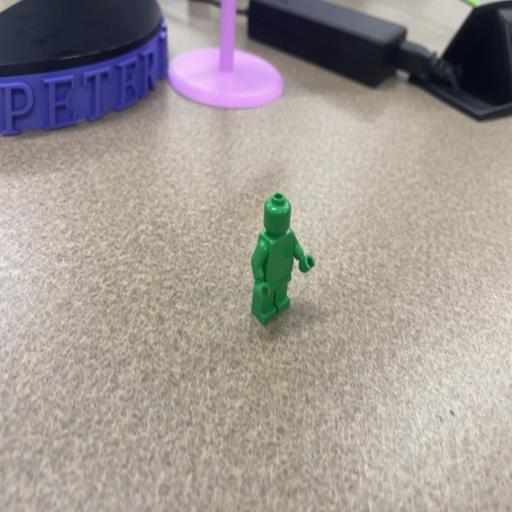Lego-Minifig: (251, 192, 315, 325)
